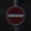No entry: (6, 5, 26, 26)
